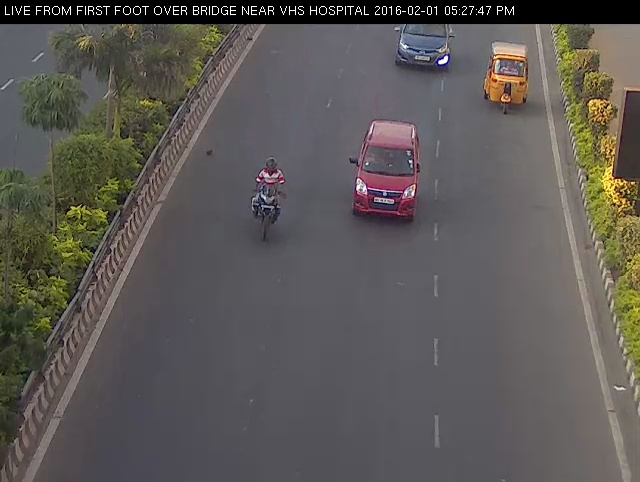Car: (341, 109, 432, 234), (477, 33, 535, 124), (384, 15, 460, 76)
Person: (244, 153, 288, 245)
